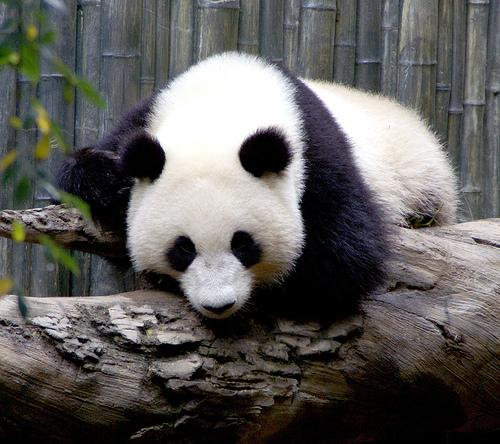panda: (63, 52, 457, 318)
